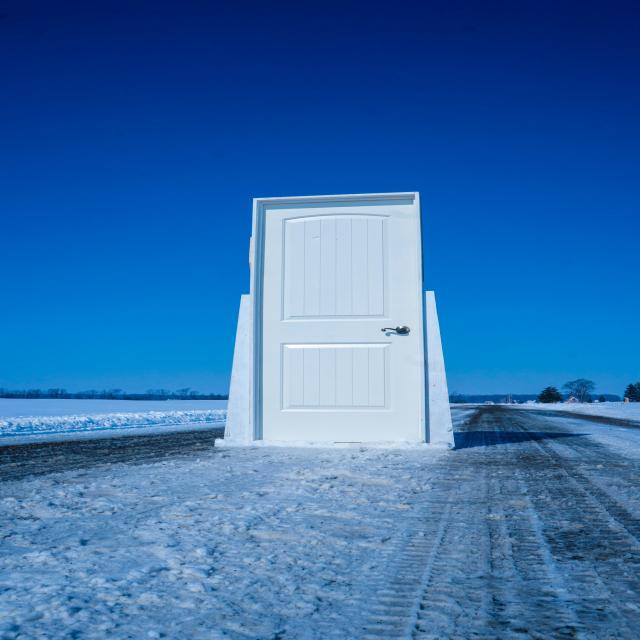door-handle: (382, 326, 411, 334)
